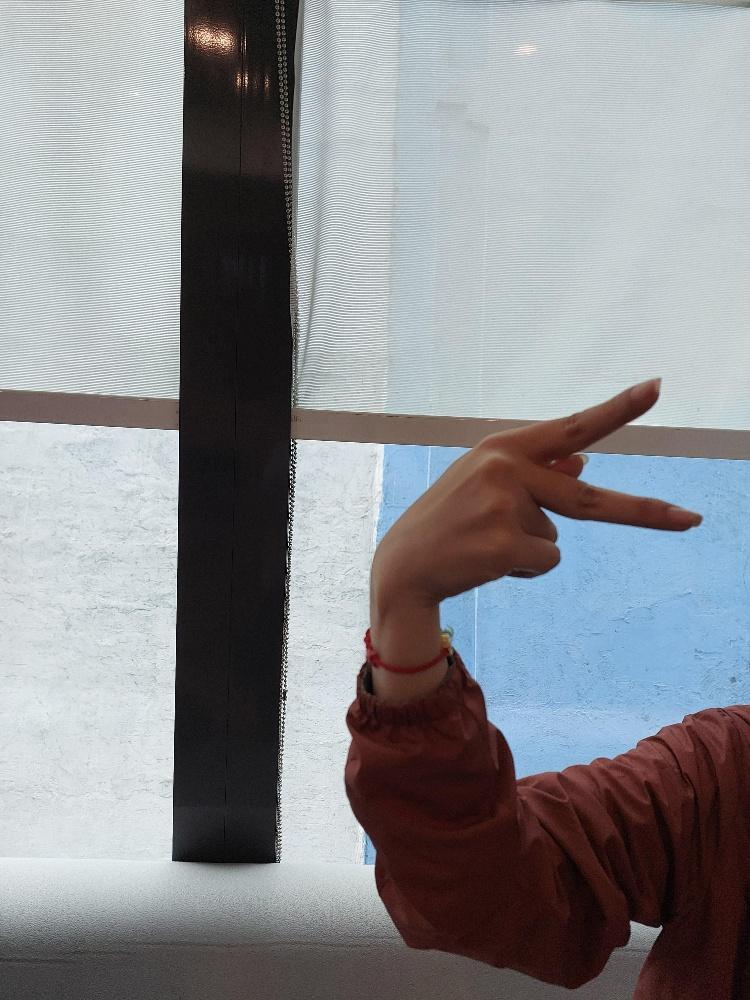k: (369, 371, 706, 601)
